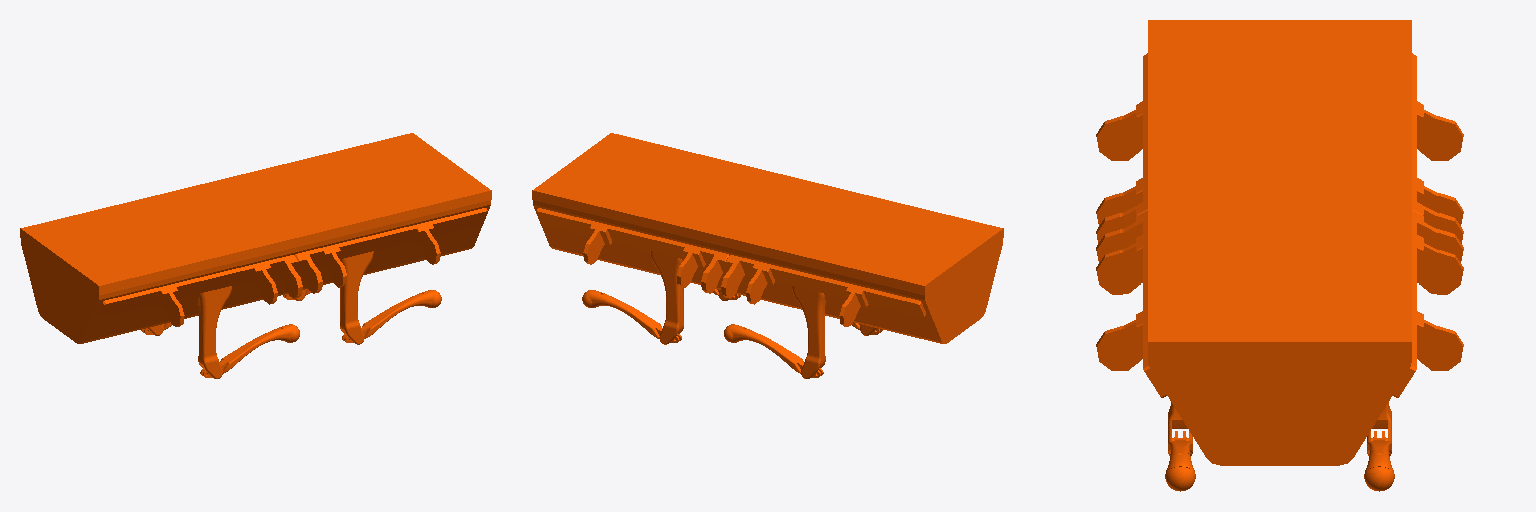
--- Facts derived from the render (not from the file) ---
The picture shows the robot from 3 angles, left to right: view 1: azimuth 30°, elevation 25°; view 2: azimuth 150°, elevation 25°; view 3: azimuth 270°, elevation 25°; orthographic projection.
Model robot_description with 23 links and 22 joints (12 revolute, 10 fixed), rooted at base, posed joints at zero except 4 at the middle of their limits (FR_calf_joint = -1.81, FL_calf_joint = -1.81, RR_calf_joint = -1.81, RL_calf_joint = -1.81).
Links seen in each view (by area): view 1: trunk, RR_thigh, FR_thigh, RR_calf, FR_calf; view 2: trunk, RL_thigh, FL_thigh, RL_calf, FL_calf; view 3: trunk, FR_calf, FL_calf.
Link boxes in pixels (x1,y1,x2,y2): trunk: (20,133,491,343); RR_thigh: (198,286,231,378); FR_thigh: (340,251,373,344); RR_calf: (200,324,299,377); FR_calf: (342,290,441,342); trunk: (532,133,1003,343); RL_thigh: (792,286,825,378); FL_thigh: (650,251,683,344); RL_calf: (724,324,823,377); FL_calf: (582,290,681,342); trunk: (1096,20,1463,465); FR_calf: (1165,431,1195,491); FL_calf: (1364,431,1394,491).
Bounding box of the posed robot: 1 × 0.4826 × 0.3135 m (x, y, z).
13 mesh visuals loaded from 5 distinct referenced files (5 Collada DAE).

URDF robot description (robot_description):
<?xml version="1.0" ?>
<!-- =================================================================================== -->
<!-- |    This document was autogenerated by xacro from robot.xacro                    | -->
<!-- |    EDITING THIS FILE BY HAND IS NOT RECOMMENDED                                 | -->
<!-- =================================================================================== -->
<robot name="robot_description">
  <material name="black">
    <color rgba="0.0 0.0 0.0 1.0"/>
  </material>
  <material name="blue">
    <color rgba="0.0 0.0 0.8 1.0"/>
  </material>
  <material name="green">
    <color rgba="0.0 0.8 0.0 1.0"/>
  </material>
  <material name="grey">
    <color rgba="0.2 0.2 0.2 1.0"/>
  </material>
  <material name="silver">
    <color rgba="0.9137254901960784 0.9137254901960784 0.8470588235294118 1.0"/>
  </material>
  <material name="orange">
    <color rgba="1.0 0.4235294117647059 0.0392156862745098 1.0"/>
  </material>
  <material name="brown">
    <color rgba="0.8705882352941177 0.8117647058823529 0.7647058823529411 1.0"/>
  </material>
  <material name="red">
    <color rgba="0.8 0.0 0.0 1.0"/>
  </material>
  <material name="white">
    <color rgba="1.0 1.0 1.0 1.0"/>
  </material>
  <!-- <xacro:property name="damping" value="0.3" />
    <xacro:property name="friction" value="0.3" /> -->
  <!-- ros_control plugin -->
  <gazebo>
    <plugin filename="libgazebo_ros_control.so" name="gazebo_ros_control">
      <robotNamespace>/a1_gazebo</robotNamespace>
      <robotSimType>gazebo_ros_control/DefaultRobotHWSim</robotSimType>
    </plugin>
  </gazebo>
  <!-- Show the trajectory of trunk center. -->
  <!-- <gazebo>
        <plugin name="3dplot" filename="libLinkPlot3DPlugin.so">
            <frequency>10</frequency>
            <plot>
                <link>base</link>
                <pose>0 0 0 0 0 0</pose>
                <material>Gazebo/Yellow</material>
            </plot>
        </plugin>
    </gazebo> -->
  <!-- Show the trajectory of foot. You can add another trajectory about another foot. -->
  <!-- <gazebo>
        <plugin name="3dplot" filename="libLinkPlot3DPlugin.so">
            <frequency>100</frequency>
            <plot>
                <link>FL_calf</link>
                <pose>0 0 -0.2 0 0 0</pose>
                <material>Gazebo/Green</material>
            </plot>
        </plugin>
    </gazebo>
    <gazebo>
        <plugin name="3dplot" filename="libLinkPlot3DPlugin.so">
            <frequency>100</frequency>
            <plot>
                <link>FR_calf</link>
                <pose>0 0 -0.2 0 0 0</pose>
                <material>Gazebo/Red</material>
            </plot>
        </plugin>
    </gazebo> -->
  <!-- <gazebo>
       <plugin filename="libgazebo_ros_force.so" name="gazebo_ros_force">
           <bodyName>trunk</bodyName>
           <topicName>/apply_force/trunk</topicName>
       </plugin>
    </gazebo> -->
  <gazebo reference="imu_link">
    <gravity>true</gravity>
    <sensor name="imu_sensor" type="imu">
      <always_on>true</always_on>
      <update_rate>1000</update_rate>
      <visualize>true</visualize>
      <topic>__default_topic__</topic>
      <plugin filename="libgazebo_ros_imu_sensor.so" name="imu_plugin">
        <topicName>trunk_imu</topicName>
        <bodyName>imu_link</bodyName>
        <updateRateHZ>1000.0</updateRateHZ>
        <gaussianNoise>0.0</gaussianNoise>
        <xyzOffset>0 0 0</xyzOffset>
        <rpyOffset>0 0 0</rpyOffset>
        <frameName>imu_link</frameName>
      </plugin>
      <pose>0 0 0 0 0 0</pose>
    </sensor>
  </gazebo>
  <!-- Foot contacts. -->
  <gazebo reference="FR_calf">
    <sensor name="FR_foot_contact" type="contact">
      <update_rate>100</update_rate>
      <plugin filename="libunitreeFootContactPlugin.so" name="contactPlugin"/>
      <contact>
        <collision>FR_calf_fixed_joint_lump__FR_foot_collision_1</collision>
      </contact>
    </sensor>
  </gazebo>
  <gazebo reference="FL_calf">
    <sensor name="FL_foot_contact" type="contact">
      <update_rate>100</update_rate>
      <plugin filename="libunitreeFootContactPlugin.so" name="contactPlugin"/>
      <contact>
        <collision>FL_calf_fixed_joint_lump__FL_foot_collision_1</collision>
      </contact>
    </sensor>
  </gazebo>
  <gazebo reference="RR_calf">
    <sensor name="RR_foot_contact" type="contact">
      <update_rate>100</update_rate>
      <plugin filename="libunitreeFootContactPlugin.so" name="contactPlugin"/>
      <contact>
        <collision>RR_calf_fixed_joint_lump__RR_foot_collision_1</collision>
      </contact>
    </sensor>
  </gazebo>
  <gazebo reference="RL_calf">
    <sensor name="RL_foot_contact" type="contact">
      <update_rate>100</update_rate>
      <plugin filename="libunitreeFootContactPlugin.so" name="contactPlugin"/>
      <contact>
        <collision>RL_calf_fixed_joint_lump__RL_foot_collision_1</collision>
      </contact>
    </sensor>
  </gazebo>
  <!-- visualization of foot contacts. -->
  <!-- <gazebo reference="FR_foot">
        <visual>
            <plugin name="drawForcePlugin" filename="libunitreeDrawForcePlugin.so">
                <topicName>FR_foot_contact</topicName>
            </plugin>
        </visual>
    </gazebo>
    <gazebo reference="FL_foot">
        <visual>
            <plugin name="drawForcePlugin" filename="libunitreeDrawForcePlugin.so">
                <topicName>FL_foot_contact</topicName>
            </plugin>
        </visual>
    </gazebo>
    <gazebo reference="RR_foot">
        <visual>
            <plugin name="drawForcePlugin" filename="libunitreeDrawForcePlugin.so">
                <topicName>RR_foot_contact</topicName>
            </plugin>
        </visual>
    </gazebo>
    <gazebo reference="RL_foot">
        <visual>
            <plugin name="drawForcePlugin" filename="libunitreeDrawForcePlugin.so">
                <topicName>RL_foot_contact</topicName>
            </plugin>
        </visual>
    </gazebo> -->
  <!-- Show planned pose location -->
  <!-- <gazebo reference="base">
        <visual>
            <plugin name="drawLinesPlugin" filename="libdrawLinesPlugin.so">
                <topicName>pose_planner</topicName>
            </plugin>
        </visual>
    </gazebo> -->
  <gazebo reference="base">
    <material>Gazebo/Green</material>
    <turnGravityOff>false</turnGravityOff>
  </gazebo>
  <gazebo reference="trunk">
    <mu1>0.2</mu1>
    <mu2>0.2</mu2>
    <kp value="1000000.0"/>
    <kd value="1.0"/>
  </gazebo>
  <gazebo reference="stick_link">
    <mu1>0.2</mu1>
    <mu2>0.2</mu2>
    <material>Gazebo/White</material>
  </gazebo>
  <gazebo reference="imu_link">
    <mu1>0.2</mu1>
    <mu2>0.2</mu2>
    <material>Gazebo/Red</material>
  </gazebo>
  <!-- FL leg -->
  <gazebo reference="FL_hip">
    <mu1>0.2</mu1>
    <mu2>0.2</mu2>
    <material>Gazebo/DarkGrey</material>
  </gazebo>
  <gazebo reference="FL_thigh">
    <mu1>0.2</mu1>
    <mu2>0.2</mu2>
    <self_collide>1</self_collide>
    <material>Gazebo/DarkGrey</material>
    <kp value="1000000.0"/>
    <kd value="1.0"/>
  </gazebo>
  <gazebo reference="FL_calf">
    <mu1>0.2</mu1>
    <mu2>0.2</mu2>
    <self_collide>1</self_collide>
  </gazebo>
  <gazebo reference="FL_foot">
    <mu1>0.8</mu1>
    <mu2>0.8</mu2>
    <self_collide>1</self_collide>
    <material>Gazebo/DarkGrey</material>
    <kp value="1000000.0"/>
    <kd value="1.0"/>
  </gazebo>
  <!-- FR leg -->
  <gazebo reference="FR_hip">
    <mu1>0.2</mu1>
    <mu2>0.2</mu2>
    <material>Gazebo/DarkGrey</material>
  </gazebo>
  <gazebo reference="FR_thigh">
    <mu1>0.2</mu1>
    <mu2>0.2</mu2>
    <self_collide>1</self_collide>
    <material>Gazebo/DarkGrey</material>
    <kp value="1000000.0"/>
    <kd value="1.0"/>
  </gazebo>
  <gazebo reference="FR_calf">
    <mu1>0.2</mu1>
    <mu2>0.2</mu2>
    <self_collide>1</self_collide>
  </gazebo>
  <gazebo reference="FR_foot">
    <mu1>0.8</mu1>
    <mu2>0.8</mu2>
    <self_collide>1</self_collide>
    <material>Gazebo/DarkGrey</material>
    <kp value="1000000.0"/>
    <kd value="1.0"/>
  </gazebo>
  <!-- RL leg -->
  <gazebo reference="RL_hip">
    <mu1>0.2</mu1>
    <mu2>0.2</mu2>
    <material>Gazebo/DarkGrey</material>
  </gazebo>
  <gazebo reference="RL_thigh">
    <mu1>0.2</mu1>
    <mu2>0.2</mu2>
    <self_collide>1</self_collide>
    <material>Gazebo/DarkGrey</material>
    <kp value="1000000.0"/>
    <kd value="1.0"/>
  </gazebo>
  <gazebo reference="RL_calf">
    <mu1>0.2</mu1>
    <mu2>0.2</mu2>
    <self_collide>1</self_collide>
  </gazebo>
  <gazebo reference="RL_foot">
    <mu1>0.8</mu1>
    <mu2>0.8</mu2>
    <self_collide>1</self_collide>
    <material>Gazebo/DarkGrey</material>
    <kp value="1000000.0"/>
    <kd value="1.0"/>
  </gazebo>
  <!-- RR leg -->
  <gazebo reference="RR_hip">
    <mu1>0.2</mu1>
    <mu2>0.2</mu2>
    <material>Gazebo/DarkGrey</material>
  </gazebo>
  <gazebo reference="RR_thigh">
    <mu1>0.2</mu1>
    <mu2>0.2</mu2>
    <self_collide>1</self_collide>
    <material>Gazebo/DarkGrey</material>
    <kp value="1000000.0"/>
    <kd value="1.0"/>
  </gazebo>
  <gazebo reference="RR_calf">
    <mu1>0.2</mu1>
    <mu2>0.2</mu2>
    <self_collide>1</self_collide>
  </gazebo>
  <gazebo reference="RR_foot">
    <mu1>0.8</mu1>
    <mu2>0.8</mu2>
    <self_collide>1</self_collide>
    <material>Gazebo/DarkGrey</material>
    <kp value="1000000.0"/>
    <kd value="1.0"/>
  </gazebo>
  <!-- <xacro:include filename="$(find a1_gazebo)/launch/stairs.urdf.xacro"/> -->
  <!-- <xacro:stairs stairs="15" xpos="0" ypos="0" zpos="0" /> -->
  <link name="base">
    <visual>
      <origin rpy="0 0 0" xyz="0 0 0"/>
      <geometry>
        <box size="0.001 0.001 0.001"/>
      </geometry>
    </visual>
  </link>
  <joint name="floating_base" type="fixed">
    <origin rpy="0 0 0" xyz="0 0 0"/>
    <parent link="base"/>
    <child link="trunk"/>
  </joint>
  <!-- <joint name="fixed_base" type="revolute">
        <limit upper="6.28" lower="-6.28" effort="1000" velocity="1000.00"/>
        <origin rpy="0 0 0" xyz="0 0 0.5"/>
        <parent link="base"/>
        <child link="trunk"/>
    </joint> -->
  <link name="trunk">
    <visual>
      <origin rpy="0 0 0" xyz="0 0 0"/>
      <geometry>
        <mesh filename="package://robot_description/meshes/trunk.dae" scale="1 1 1"/>
      </geometry>
      <material name="orange"/>
    </visual>
    <collision>
      <origin rpy="0 0 0" xyz="0 0 0"/>
      <geometry>
        <box size="0.267 0.194 0.114"/>
      </geometry>
    </collision>
    <inertial>
      <origin rpy="0 0 0" xyz="0.0 0.0041 -0.0005"/>
      <mass value="6.0"/>
      <inertia ixx="0.0158533" ixy="-3.66e-05" ixz="-6.11e-05" iyy="0.0377999" iyz="-2.75e-05" izz="0.0456542"/>
    </inertial>
  </link>
  <joint name="imu_joint" type="fixed">
    <parent link="trunk"/>
    <child link="imu_link"/>
    <origin rpy="0 0 0" xyz="0 0 0"/>
  </joint>
  <link name="imu_link">
    <inertial>
      <mass value="0.001"/>
      <origin rpy="0 0 0" xyz="0 0 0"/>
      <inertia ixx="0.0001" ixy="0" ixz="0" iyy="0.0001" iyz="0" izz="0.0001"/>
    </inertial>
    <visual>
      <origin rpy="0 0 0" xyz="0 0 0"/>
      <geometry>
        <box size="0.001 0.001 0.001"/>
      </geometry>
      <material name="red"/>
    </visual>
    <collision>
      <origin rpy="0 0 0" xyz="0 0 0"/>
      <geometry>
        <box size=".001 .001 .001"/>
      </geometry>
    </collision>
  </link>
  <joint name="FR_hip_joint" type="revolute">
    <origin rpy="0 0 0" xyz="0.1805 -0.047 0"/>
    <parent link="trunk"/>
    <child link="FR_hip"/>
    <axis xyz="1 0 0"/>
    <dynamics damping="0.3" friction="0.2"/>
    <limit effort="33.5" lower="-0.8028514559173915" upper="0.8028514559173915" velocity="21"/>
  </joint>
  <link name="FR_hip">
    <visual>
      <origin rpy="3.141592653589793 0 0" xyz="0 0 0"/>
      <geometry>
        <mesh filename="package://robot_description/meshes/hip.dae" scale="1 1 1"/>
      </geometry>
      <material name="orange"/>
    </visual>
    <collision>
      <origin rpy="1.5707963267948966 0 0" xyz="0 0 0"/>
      <geometry>
        <cylinder length="0.04" radius="0.046"/>
      </geometry>
    </collision>
    <inertial>
      <origin rpy="0 0 0" xyz="-0.003311 -0.000635 3.1e-05"/>
      <mass value="0.696"/>
      <inertia ixx="0.000469246" ixy="9.409e-06" ixz="-3.42e-07" iyy="0.00080749" iyz="4.66e-07" izz="0.000552929"/>
    </inertial>
  </link>
  <joint name="FR_hip_fixed" type="fixed">
    <origin rpy="0 0 0" xyz="0 -0.081 0"/>
    <parent link="FR_hip"/>
    <child link="FR_thigh_shoulder"/>
  </joint>
  <!-- this link is only for collision -->
  <link name="FR_thigh_shoulder">
    <collision>
      <origin rpy="1.5707963267948966 0 0" xyz="0 0 0"/>
      <geometry>
        <cylinder length="0.032" radius="0.041"/>
      </geometry>
    </collision>
  </link>
  <joint name="FR_thigh_joint" type="revolute">
    <origin rpy="0 0 0" xyz="0 -0.0838 0"/>
    <parent link="FR_hip"/>
    <child link="FR_thigh"/>
    <axis xyz="0 1 0"/>
    <dynamics damping="0.3" friction="0.2"/>
    <limit effort="33.5" lower="-1.0471975511965976" upper="4.1887902047863905" velocity="21"/>
  </joint>
  <link name="FR_thigh">
    <visual>
      <origin rpy="0 0 0" xyz="0 0 0"/>
      <geometry>
        <mesh filename="package://robot_description/meshes/thigh_mirror.dae" scale="1 1 1"/>
      </geometry>
      <material name="orange"/>
    </visual>
    <collision>
      <origin rpy="0 1.5707963267948966 0" xyz="0 0 -0.1"/>
      <geometry>
        <box size="0.2 0.0245 0.034"/>
      </geometry>
    </collision>
    <inertial>
      <origin rpy="0 0 0" xyz="-0.003237 0.022327 -0.027326"/>
      <mass value="1.013"/>
      <inertia ixx="0.005529065" ixy="-4.825e-06" ixz="0.000343869" iyy="0.005139339" iyz="-2.2448e-05" izz="0.001367788"/>
    </inertial>
  </link>
  <joint name="FR_calf_joint" type="revolute">
    <origin rpy="0 0 0" xyz="0 0 -0.2"/>
    <parent link="FR_thigh"/>
    <child link="FR_calf"/>
    <axis xyz="0 1 0"/>
    <dynamics damping="0.3" friction="0.2"/>
    <limit effort="33.5" lower="-2.6965336943312392" upper="-0.9162978572970231" velocity="21"/>
  </joint>
  <link name="FR_calf">
    <visual>
      <origin rpy="0 0 0" xyz="0 0 0"/>
      <geometry>
        <mesh filename="package://robot_description/meshes/calf.dae" scale="1 1 1"/>
      </geometry>
      <material name="orange"/>
    </visual>
    <collision>
      <origin rpy="0 1.5707963267948966 0" xyz="0 0 -0.1"/>
      <geometry>
        <box size="0.13333333333333333 0.016 0.016"/>
      </geometry>
    </collision>
    <inertial>
      <origin rpy="0 0 0" xyz="0.006435 0.0 -0.107388"/>
      <mass value="0.166"/>
      <inertia ixx="0.002997972" ixy="0.0" ixz="-0.000141163" iyy="0.003014022" iyz="0.0" izz="3.2426e-05"/>
    </inertial>
  </link>
  <joint name="FR_foot_fixed" type="fixed">
    <origin rpy="0 0 0" xyz="0 0 -0.2"/>
    <parent link="FR_calf"/>
    <child link="FR_foot"/>
  </joint>
  <link name="FR_foot">
    <visual>
      <origin rpy="0 0 0" xyz="0 0 0"/>
      <geometry>
        <sphere radius="0.01"/>
      </geometry>
      <material name="orange"/>
    </visual>
    <collision>
      <origin rpy="0 0 0" xyz="0 0 0"/>
      <geometry>
        <sphere radius="0.02"/>
      </geometry>
    </collision>
    <inertial>
      <mass value="0.06"/>
      <inertia ixx="9.600000000000001e-06" ixy="0.0" ixz="0.0" iyy="9.600000000000001e-06" iyz="0.0" izz="9.600000000000001e-06"/>
    </inertial>
  </link>
  <transmission name="FR_hip_tran">
    <type>transmission_interface/SimpleTransmission</type>
    <joint name="FR_hip_joint">
      <hardwareInterface>hardware_interface/EffortJointInterface</hardwareInterface>
    </joint>
    <actuator name="FR_hip_motor">
      <hardwareInterface>hardware_interface/EffortJointInterface</hardwareInterface>
      <mechanicalReduction>1</mechanicalReduction>
    </actuator>
  </transmission>
  <transmission name="FR_thigh_tran">
    <type>transmission_interface/SimpleTransmission</type>
    <joint name="FR_thigh_joint">
      <hardwareInterface>hardware_interface/EffortJointInterface</hardwareInterface>
    </joint>
    <actuator name="FR_thigh_motor">
      <hardwareInterface>hardware_interface/EffortJointInterface</hardwareInterface>
      <mechanicalReduction>1</mechanicalReduction>
    </actuator>
  </transmission>
  <transmission name="FR_calf_tran">
    <type>transmission_interface/SimpleTransmission</type>
    <joint name="FR_calf_joint">
      <hardwareInterface>hardware_interface/EffortJointInterface</hardwareInterface>
    </joint>
    <actuator name="FR_calf_motor">
      <hardwareInterface>hardware_interface/EffortJointInterface</hardwareInterface>
      <mechanicalReduction>1</mechanicalReduction>
    </actuator>
  </transmission>
  <joint name="FL_hip_joint" type="revolute">
    <origin rpy="0 0 0" xyz="0.1805 0.047 0"/>
    <parent link="trunk"/>
    <child link="FL_hip"/>
    <axis xyz="1 0 0"/>
    <dynamics damping="0.3" friction="0.2"/>
    <limit effort="33.5" lower="-0.8028514559173915" upper="0.8028514559173915" velocity="21"/>
  </joint>
  <link name="FL_hip">
    <visual>
      <origin rpy="0 0 0" xyz="0 0 0"/>
      <geometry>
        <mesh filename="package://robot_description/meshes/hip.dae" scale="1 1 1"/>
      </geometry>
      <material name="orange"/>
    </visual>
    <collision>
      <origin rpy="1.5707963267948966 0 0" xyz="0 0 0"/>
      <geometry>
        <cylinder length="0.04" radius="0.046"/>
      </geometry>
    </collision>
    <inertial>
      <origin rpy="0 0 0" xyz="-0.003311 0.000635 3.1e-05"/>
      <mass value="0.696"/>
      <inertia ixx="0.000469246" ixy="-9.409e-06" ixz="-3.42e-07" iyy="0.00080749" iyz="-4.66e-07" izz="0.000552929"/>
    </inertial>
  </link>
  <joint name="FL_hip_fixed" type="fixed">
    <origin rpy="0 0 0" xyz="0 0.081 0"/>
    <parent link="FL_hip"/>
    <child link="FL_thigh_shoulder"/>
  </joint>
  <!-- this link is only for collision -->
  <link name="FL_thigh_shoulder">
    <collision>
      <origin rpy="1.5707963267948966 0 0" xyz="0 0 0"/>
      <geometry>
        <cylinder length="0.032" radius="0.041"/>
      </geometry>
    </collision>
  </link>
  <joint name="FL_thigh_joint" type="revolute">
    <origin rpy="0 0 0" xyz="0 0.0838 0"/>
    <parent link="FL_hip"/>
    <child link="FL_thigh"/>
    <axis xyz="0 1 0"/>
    <dynamics damping="0.3" friction="0.2"/>
    <limit effort="33.5" lower="-1.0471975511965976" upper="4.1887902047863905" velocity="21"/>
  </joint>
  <link name="FL_thigh">
    <visual>
      <origin rpy="0 0 0" xyz="0 0 0"/>
      <geometry>
        <mesh filename="package://robot_description/meshes/thigh.dae" scale="1 1 1"/>
      </geometry>
      <material name="orange"/>
    </visual>
    <collision>
      <origin rpy="0 1.5707963267948966 0" xyz="0 0 -0.1"/>
      <geometry>
        <box size="0.2 0.0245 0.034"/>
      </geometry>
    </collision>
    <inertial>
      <origin rpy="0 0 0" xyz="-0.003237 -0.022327 -0.027326"/>
      <mass value="1.013"/>
      <inertia ixx="0.005529065" ixy="4.825e-06" ixz="0.000343869" iyy="0.005139339" iyz="2.2448e-05" izz="0.001367788"/>
    </inertial>
  </link>
  <joint name="FL_calf_joint" type="revolute">
    <origin rpy="0 0 0" xyz="0 0 -0.2"/>
    <parent link="FL_thigh"/>
    <child link="FL_calf"/>
    <axis xyz="0 1 0"/>
    <dynamics damping="0.3" friction="0.2"/>
    <limit effort="33.5" lower="-2.6965336943312392" upper="-0.9162978572970231" velocity="21"/>
  </joint>
  <link name="FL_calf">
    <visual>
      <origin rpy="0 0 0" xyz="0 0 0"/>
      <geometry>
        <mesh filename="package://robot_description/meshes/calf.dae" scale="1 1 1"/>
      </geometry>
      <material name="orange"/>
    </visual>
    <collision>
      <origin rpy="0 1.5707963267948966 0" xyz="0 0 -0.1"/>
      <geometry>
        <box size="0.13333333333333333 0.016 0.016"/>
      </geometry>
    </collision>
    <inertial>
      <origin rpy="0 0 0" xyz="0.006435 0.0 -0.107388"/>
      <mass value="0.166"/>
      <inertia ixx="0.002997972" ixy="0.0" ixz="-0.000141163" iyy="0.003014022" iyz="0.0" izz="3.2426e-05"/>
    </inertial>
  </link>
  <joint name="FL_foot_fixed" type="fixed">
    <origin rpy="0 0 0" xyz="0 0 -0.2"/>
    <parent link="FL_calf"/>
    <child link="FL_foot"/>
  </joint>
  <link name="FL_foot">
    <visual>
      <origin rpy="0 0 0" xyz="0 0 0"/>
      <geometry>
        <sphere radius="0.01"/>
      </geometry>
      <material name="orange"/>
    </visual>
    <collision>
      <origin rpy="0 0 0" xyz="0 0 0"/>
      <geometry>
        <sphere radius="0.02"/>
      </geometry>
    </collision>
    <inertial>
      <mass value="0.06"/>
      <inertia ixx="9.600000000000001e-06" ixy="0.0" ixz="0.0" iyy="9.600000000000001e-06" iyz="0.0" izz="9.600000000000001e-06"/>
    </inertial>
  </link>
  <transmission name="FL_hip_tran">
    <type>transmission_interface/SimpleTransmission</type>
    <joint name="FL_hip_joint">
      <hardwareInterface>hardware_interface/EffortJointInterface</hardwareInterface>
    </joint>
    <actuator name="FL_hip_motor">
      <hardwareInterface>hardware_interface/EffortJointInterface</hardwareInterface>
      <mechanicalReduction>1</mechanicalReduction>
    </actuator>
  </transmission>
  <transmission name="FL_thigh_tran">
    <type>transmission_interface/SimpleTransmission</type>
    <joint name="FL_thigh_joint">
      <hardwareInterface>hardware_interface/EffortJointInterface</hardwareInterface>
    </joint>
    <actuator name="FL_thigh_motor">
      <hardwareInterface>hardware_interface/EffortJointInterface</hardwareInterface>
      <mechanicalReduction>1</mechanicalReduction>
    </actuator>
  </transmission>
  <transmission name="FL_calf_tran">
    <type>transmission_interface/SimpleTransmission</type>
    <joint name="FL_calf_joint">
      <hardwareInterface>hardware_interface/EffortJointInterface</hardwareInterface>
    </joint>
    <actuator name="FL_calf_motor">
      <hardwareInterface>hardware_interface/EffortJointInterface</hardwareInterface>
      <mechanicalReduction>1</mechanicalReduction>
    </actuator>
  </transmission>
  <joint name="RR_hip_joint" type="revolute">
    <origin rpy="0 0 0" xyz="-0.1805 -0.047 0"/>
    <parent link="trunk"/>
    <child link="RR_hip"/>
    <axis xyz="1 0 0"/>
    <dynamics damping="0.3" friction="0.2"/>
    <limit effort="33.5" lower="-0.8028514559173915" upper="0.8028514559173915" velocity="21"/>
  </joint>
  <link name="RR_hip">
    <visual>
      <origin rpy="3.141592653589793 3.141592653589793 0" xyz="0 0 0"/>
      <geometry>
        <mesh filename="package://robot_description/meshes/hip.dae" scale="1 1 1"/>
      </geometry>
      <material name="orange"/>
    </visual>
    <collision>
      <origin rpy="1.5707963267948966 0 0" xyz="0 0 0"/>
      <geometry>
        <cylinder length="0.04" radius="0.046"/>
      </geometry>
    </collision>
    <inertial>
      <origin rpy="0 0 0" xyz="0.003311 -0.000635 3.1e-05"/>
      <mass value="0.696"/>
      <inertia ixx="0.000469246" ixy="-9.409e-06" ixz="3.42e-07" iyy="0.00080749" iyz="4.66e-07" izz="0.000552929"/>
    </inertial>
  </link>
  <joint name="RR_hip_fixed" type="fixed">
    <origin rpy="0 0 0" xyz="0 -0.081 0"/>
    <parent link="RR_hip"/>
    <child link="RR_thigh_shoulder"/>
  </joint>
  <!-- this link is only for collision -->
  <link name="RR_thigh_shoulder">
    <collision>
      <origin rpy="1.5707963267948966 0 0" xyz="0 0 0"/>
      <geometry>
        <cylinder length="0.032" radius="0.041"/>
      </geometry>
    </collision>
  </link>
  <joint name="RR_thigh_joint" type="revolute">
    <origin rpy="0 0 0" xyz="0 -0.0838 0"/>
    <parent link="RR_hip"/>
    <child link="RR_thigh"/>
    <axis xyz="0 1 0"/>
    <dynamics damping="0.3" friction="0.2"/>
    <limit effort="33.5" lower="-1.0471975511965976" upper="4.1887902047863905" velocity="21"/>
  </joint>
  <link name="RR_thigh">
    <visual>
      <origin rpy="0 0 0" xyz="0 0 0"/>
      <geometry>
        <mesh filename="package://robot_description/meshes/thigh_mirror.dae" scale="1 1 1"/>
      </geometry>
      <material name="orange"/>
    </visual>
    <collision>
      <origin rpy="0 1.5707963267948966 0" xyz="0 0 -0.1"/>
      <geometry>
        <box size="0.2 0.0245 0.034"/>
      </geometry>
    </collision>
    <inertial>
      <origin rpy="0 0 0" xyz="-0.003237 0.022327 -0.027326"/>
      <mass value="1.013"/>
      <inertia ixx="0.005529065" ixy="-4.825e-06" ixz="0.000343869" iyy="0.005139339" iyz="-2.2448e-05" izz="0.001367788"/>
    </inertial>
  </link>
  <joint name="RR_calf_joint" type="revolute">
    <origin rpy="0 0 0" xyz="0 0 -0.2"/>
    <parent link="RR_thigh"/>
    <child link="RR_calf"/>
    <axis xyz="0 1 0"/>
    <dynamics damping="0.3" friction="0.2"/>
    <limit effort="33.5" lower="-2.6965336943312392" upper="-0.9162978572970231" velocity="21"/>
  </joint>
  <link name="RR_calf">
    <visual>
      <origin rpy="0 0 0" xyz="0 0 0"/>
      <geometry>
        <mesh filename="package://robot_description/meshes/calf.dae" scale="1 1 1"/>
      </geometry>
      <material name="orange"/>
    </visual>
    <collision>
      <origin rpy="0 1.5707963267948966 0" xyz="0 0 -0.1"/>
      <geometry>
        <box size="0.13333333333333333 0.016 0.016"/>
      </geometry>
    </collision>
    <inertial>
      <origin rpy="0 0 0" xyz="0.006435 0.0 -0.107388"/>
      <mass value="0.166"/>
      <inertia ixx="0.002997972" ixy="0.0" ixz="-0.000141163" iyy="0.003014022" iyz="0.0" izz="3.2426e-05"/>
    </inertial>
  </link>
  <joint name="RR_foot_fixed" type="fixed">
    <origin rpy="0 0 0" xyz="0 0 -0.2"/>
    <parent link="RR_calf"/>
    <child link="RR_foot"/>
  </joint>
  <link name="RR_foot">
    <visual>
      <origin rpy="0 0 0" xyz="0 0 0"/>
      <geometry>
        <sphere radius="0.01"/>
      </geometry>
      <material name="orange"/>
    </visual>
    <collision>
      <origin rpy="0 0 0" xyz="0 0 0"/>
      <geometry>
        <sphere radius="0.02"/>
      </geometry>
    </collision>
    <inertial>
      <mass value="0.06"/>
      <inertia ixx="9.600000000000001e-06" ixy="0.0" ixz="0.0" iyy="9.600000000000001e-06" iyz="0.0" izz="9.600000000000001e-06"/>
    </inertial>
  </link>
  <transmission name="RR_hip_tran">
    <type>transmission_interface/SimpleTransmission</type>
    <joint name="RR_hip_joint">
      <hardwareInterface>hardware_interface/EffortJointInterface</hardwareInterface>
    </joint>
    <actuator name="RR_hip_motor">
      <hardwareInterface>hardware_interface/EffortJointInterface</hardwareInterface>
      <mechanicalReduction>1</mechanicalReduction>
    </actuator>
  </transmission>
  <transmission name="RR_thigh_tran">
    <type>transmission_interface/SimpleTransmission</type>
    <joint name="RR_thigh_joint">
      <hardwareInterface>hardware_interface/EffortJointInterface</hardwareInterface>
    </joint>
    <actuator name="RR_thigh_motor">
      <hardwareInterface>hardware_interface/EffortJointInterface</hardwareInterface>
      <mechanicalReduction>1</mechanicalReduction>
    </actuator>
  </transmission>
  <transmission name="RR_calf_tran">
    <type>transmission_interface/SimpleTransmission</type>
    <joint name="RR_calf_joint">
      <hardwareInterface>hardware_interface/EffortJointInterface</hardwareInterface>
    </joint>
    <actuator name="RR_calf_motor">
      <hardwareInterface>hardware_interface/EffortJointInterface</hardwareInterface>
      <mechanicalReduction>1</mechanicalReduction>
    </actuator>
  </transmission>
  <joint name="RL_hip_joint" type="revolute">
    <origin rpy="0 0 0" xyz="-0.1805 0.047 0"/>
    <parent link="trunk"/>
    <child link="RL_hip"/>
    <axis xyz="1 0 0"/>
    <dynamics damping="0.3" friction="0.2"/>
    <limit effort="33.5" lower="-0.8028514559173915" upper="0.8028514559173915" velocity="21"/>
  </joint>
  <link name="RL_hip">
    <visual>
      <origin rpy="0 3.141592653589793 0" xyz="0 0 0"/>
      <geometry>
        <mesh filename="package://robot_description/meshes/hip.dae" scale="1 1 1"/>
      </geometry>
      <material name="orange"/>
    </visual>
    <collision>
      <origin rpy="1.5707963267948966 0 0" xyz="0 0 0"/>
      <geometry>
        <cylinder length="0.04" radius="0.046"/>
      </geometry>
    </collision>
    <inertial>
      <origin rpy="0 0 0" xyz="0.003311 0.000635 3.1e-05"/>
      <mass value="0.696"/>
      <inertia ixx="0.000469246" ixy="9.409e-06" ixz="3.42e-07" iyy="0.00080749" iyz="-4.66e-07" izz="0.000552929"/>
    </inertial>
  </link>
  <joint name="RL_hip_fixed" type="fixed">
    <origin rpy="0 0 0" xyz="0 0.081 0"/>
    <parent link="RL_hip"/>
    <child link="RL_thigh_shoulder"/>
  </joint>
  <!-- this link is only for collision -->
  <link name="RL_thigh_shoulder">
    <collision>
      <origin rpy="1.5707963267948966 0 0" xyz="0 0 0"/>
      <geometry>
        <cylinder length="0.032" radius="0.041"/>
      </geometry>
    </collision>
  </link>
  <joint name="RL_thigh_joint" type="revolute">
    <origin rpy="0 0 0" xyz="0 0.0838 0"/>
    <parent link="RL_hip"/>
    <child link="RL_thigh"/>
    <axis xyz="0 1 0"/>
    <dynamics damping="0.3" friction="0.2"/>
    <limit effort="33.5" lower="-1.0471975511965976" upper="4.1887902047863905" velocity="21"/>
  </joint>
  <link name="RL_thigh">
    <visual>
      <origin rpy="0 0 0" xyz="0 0 0"/>
      <geometry>
        <mesh filename="package://robot_description/meshes/thigh.dae" scale="1 1 1"/>
      </geometry>
      <material name="orange"/>
    </visual>
    <collision>
      <origin rpy="0 1.5707963267948966 0" xyz="0 0 -0.1"/>
      <geometry>
        <box size="0.2 0.0245 0.034"/>
      </geometry>
    </collision>
    <inertial>
      <origin rpy="0 0 0" xyz="-0.003237 -0.022327 -0.027326"/>
      <mass value="1.013"/>
      <inertia ixx="0.005529065" ixy="4.825e-06" ixz="0.000343869" iyy="0.005139339" iyz="2.2448e-05" izz="0.001367788"/>
    </inertial>
  </link>
  <joint name="RL_calf_joint" type="revolute">
    <origin rpy="0 0 0" xyz="0 0 -0.2"/>
    <parent link="RL_thigh"/>
    <child link="RL_calf"/>
    <axis xyz="0 1 0"/>
    <dynamics damping="0.3" friction="0.2"/>
    <limit effort="33.5" lower="-2.6965336943312392" upper="-0.9162978572970231" velocity="21"/>
  </joint>
  <link name="RL_calf">
    <visual>
      <origin rpy="0 0 0" xyz="0 0 0"/>
      <geometry>
        <mesh filename="package://robot_description/meshes/calf.dae" scale="1 1 1"/>
      </geometry>
      <material name="orange"/>
    </visual>
    <collision>
      <origin rpy="0 1.5707963267948966 0" xyz="0 0 -0.1"/>
      <geometry>
        <box size="0.13333333333333333 0.016 0.016"/>
      </geometry>
    </collision>
    <inertial>
      <origin rpy="0 0 0" xyz="0.006435 0.0 -0.107388"/>
      <mass value="0.166"/>
      <inertia ixx="0.002997972" ixy="0.0" ixz="-0.000141163" iyy="0.003014022" iyz="0.0" izz="3.2426e-05"/>
    </inertial>
  </link>
  <joint name="RL_foot_fixed" type="fixed">
    <origin rpy="0 0 0" xyz="0 0 -0.2"/>
    <parent link="RL_calf"/>
    <child link="RL_foot"/>
  </joint>
  <link name="RL_foot">
    <visual>
      <origin rpy="0 0 0" xyz="0 0 0"/>
      <geometry>
        <sphere radius="0.01"/>
      </geometry>
      <material name="orange"/>
    </visual>
    <collision>
      <origin rpy="0 0 0" xyz="0 0 0"/>
      <geometry>
        <sphere radius="0.02"/>
      </geometry>
    </collision>
    <inertial>
      <mass value="0.06"/>
      <inertia ixx="9.600000000000001e-06" ixy="0.0" ixz="0.0" iyy="9.600000000000001e-06" iyz="0.0" izz="9.600000000000001e-06"/>
    </inertial>
  </link>
  <transmission name="RL_hip_tran">
    <type>transmission_interface/SimpleTransmission</type>
    <joint name="RL_hip_joint">
      <hardwareInterface>hardware_interface/EffortJointInterface</hardwareInterface>
    </joint>
    <actuator name="RL_hip_motor">
      <hardwareInterface>hardware_interface/EffortJointInterface</hardwareInterface>
      <mechanicalReduction>1</mechanicalReduction>
    </actuator>
  </transmission>
  <transmission name="RL_thigh_tran">
    <type>transmission_interface/SimpleTransmission</type>
    <joint name="RL_thigh_joint">
      <hardwareInterface>hardware_interface/EffortJointInterface</hardwareInterface>
    </joint>
    <actuator name="RL_thigh_motor">
      <hardwareInterface>hardware_interface/EffortJointInterface</hardwareInterface>
      <mechanicalReduction>1</mechanicalReduction>
    </actuator>
  </transmission>
  <transmission name="RL_calf_tran">
    <type>transmission_interface/SimpleTransmission</type>
    <joint name="RL_calf_joint">
      <hardwareInterface>hardware_interface/EffortJointInterface</hardwareInterface>
    </joint>
    <actuator name="RL_calf_motor">
      <hardwareInterface>hardware_interface/EffortJointInterface</hardwareInterface>
      <mechanicalReduction>1</mechanicalReduction>
    </actuator>
  </transmission>
  <!-- <xacro:stairs stairs="15" xpos="0" ypos="2.0" zpos="0" /> -->
</robot>
